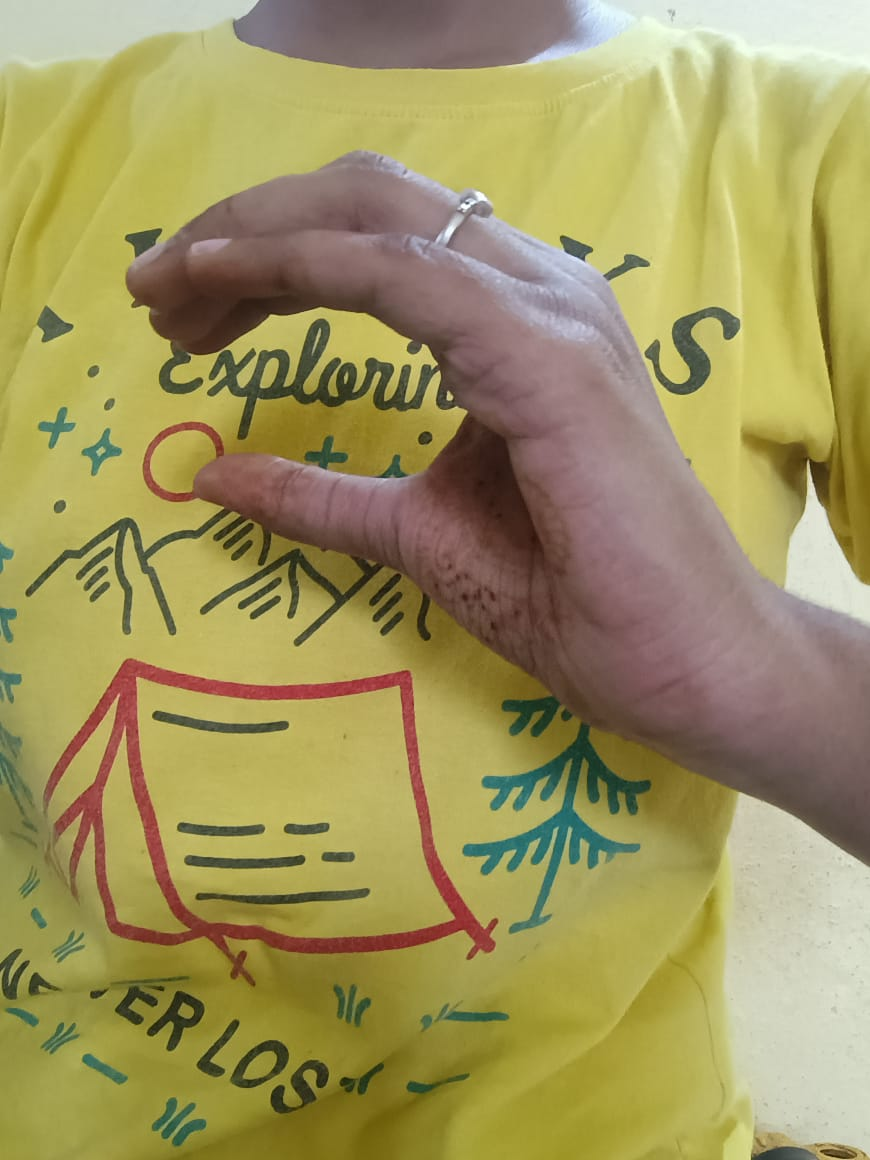C: (126, 151, 734, 784)
